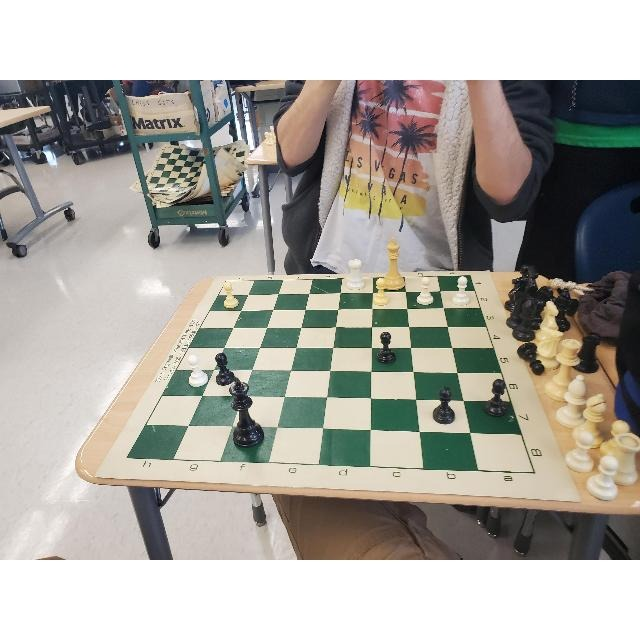black-king: (225, 376, 266, 449)
black-pawn: (429, 381, 458, 425), (479, 376, 508, 418), (374, 327, 398, 366), (215, 350, 241, 385)
white-king: (377, 235, 409, 290)
white-pawn: (182, 351, 212, 390), (413, 275, 437, 308), (452, 273, 472, 307), (371, 277, 390, 307), (220, 279, 238, 308)
white-rook: (345, 258, 367, 290)
